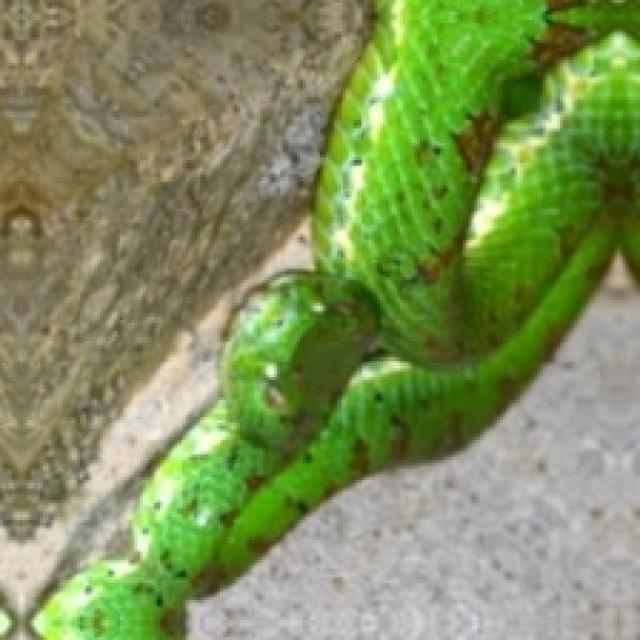philippine pitviper: (34, 0, 637, 637)
